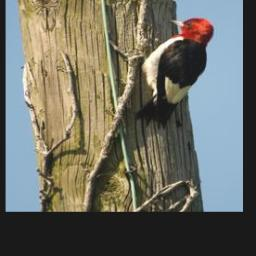Woodpecker: (123, 16, 216, 130)
